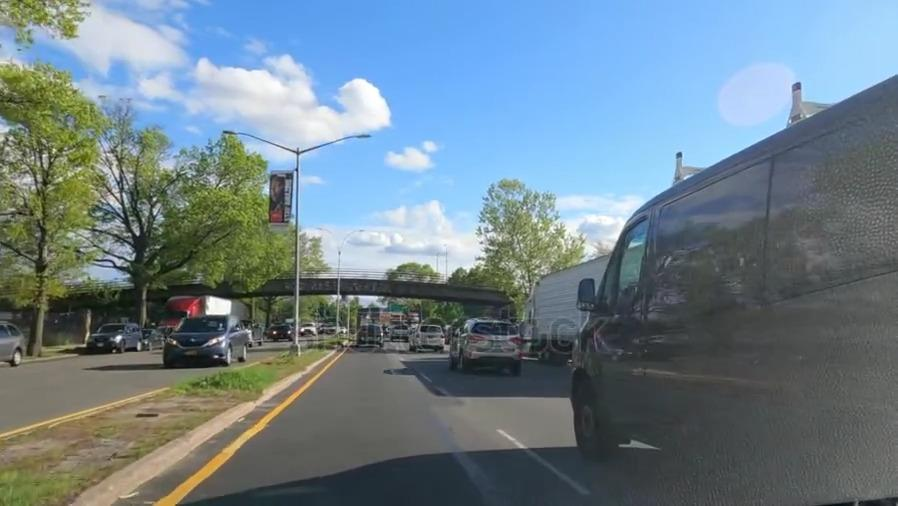car: (157, 317, 255, 364), (445, 318, 513, 373), (72, 321, 142, 353), (0, 319, 26, 367), (413, 321, 443, 350), (354, 324, 385, 352), (265, 325, 295, 341), (389, 326, 407, 341)
truck: (519, 273, 595, 350)
van: (612, 83, 893, 492)
wheel: (570, 376, 607, 455)
